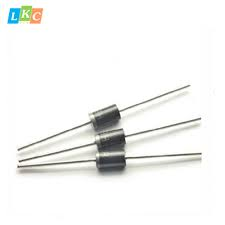diode: (84, 147, 147, 195), (73, 97, 135, 131)
